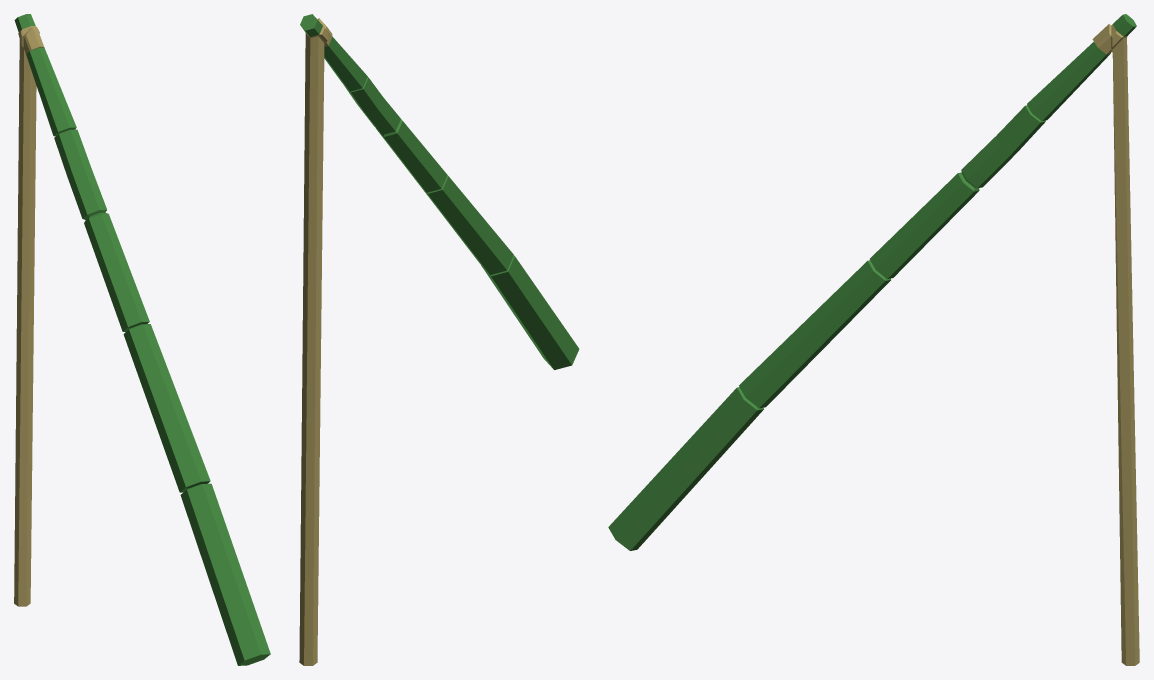
The model's file is FishingRod.fbx.
The picture shows the model from 3 angles, left to right: view 1: azimuth 30°, elevation 25°; view 2: azimuth 150°, elevation 25°; view 3: azimuth 270°, elevation 25°; orthographic projection. The views are drawn at different scales.
Parts seen in each view (by area): view 1: Cylinder.001; view 2: Cylinder.001; view 3: Cylinder.001.
Part boxes in pixels (box(x1,y1,x2,y2)): Cylinder.001: box(14, 14, 270, 665); Cylinder.001: box(299, 14, 579, 665); Cylinder.001: box(608, 14, 1139, 665).
Bounding box in the file's own units: 0.1795 × 3.86 × 2.87.
